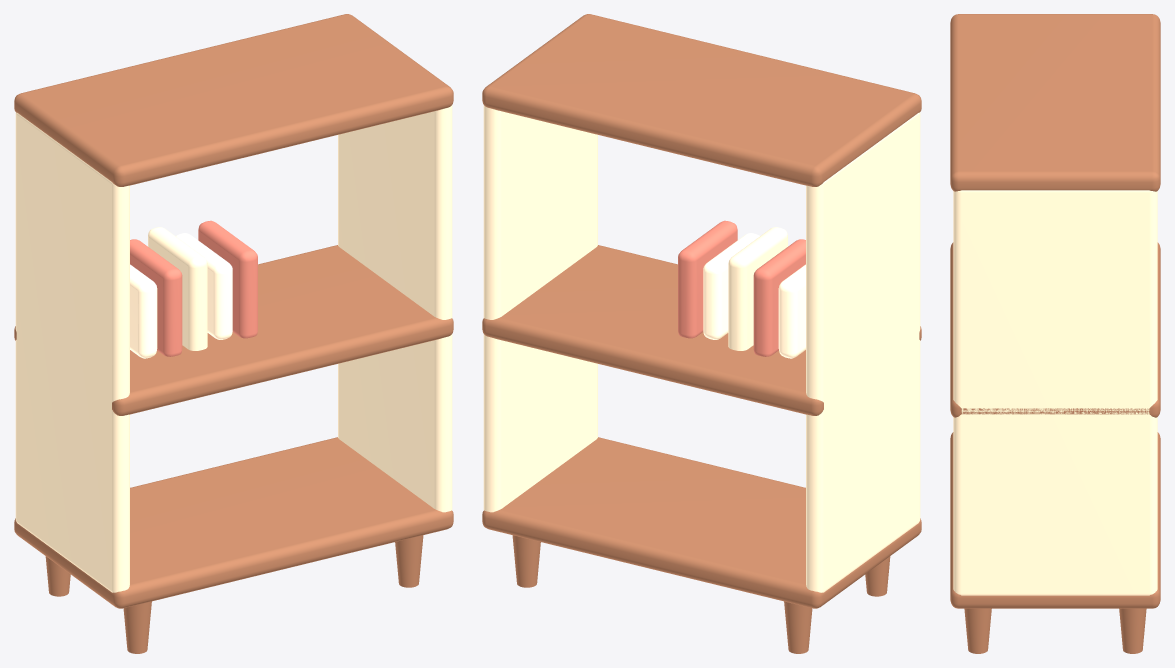
Rendered from linen_rack.glb.
3 views of the same model, side by side, from view 1: azimuth 30°, elevation 25°; view 2: azimuth 150°, elevation 25°; view 3: azimuth 270°, elevation 25° (orthographic).
Visible parts, largest first — view 1: linen_rack; view 2: linen_rack; view 3: linen_rack.
Boxes of the visible parts, left/top/right/bottom form: linen_rack: left=14, top=14, right=453, bottom=653; linen_rack: left=482, top=14, right=921, bottom=653; linen_rack: left=950, top=14, right=1160, bottom=653.
Size of the model in its own units: 0.7 by 0.981 by 0.38.
